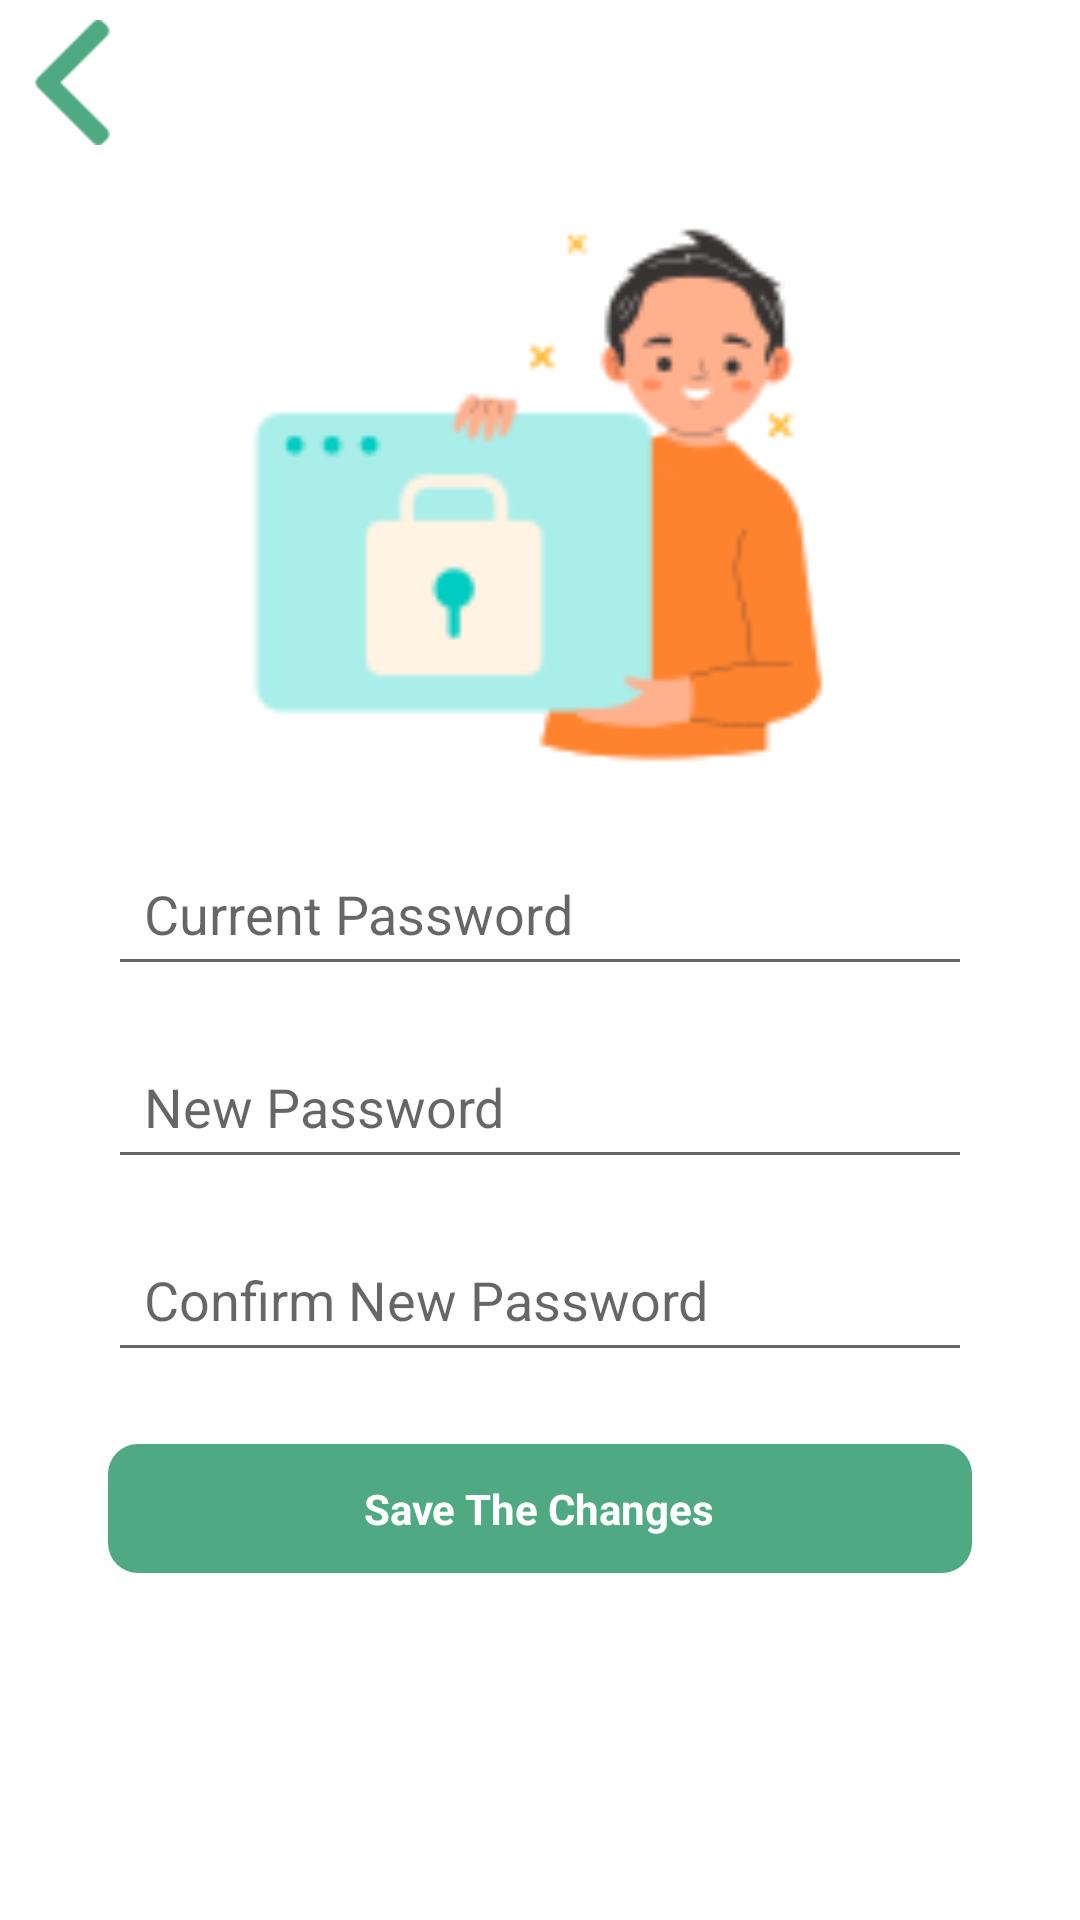

Locate icon controls on the screen. Image size 1080x1920, boxes as {"left": x1, "top": y1, "right": x2, "bottom": y2}.
setavoltar: {"left": 35, "top": 20, "right": 110, "bottom": 145}
